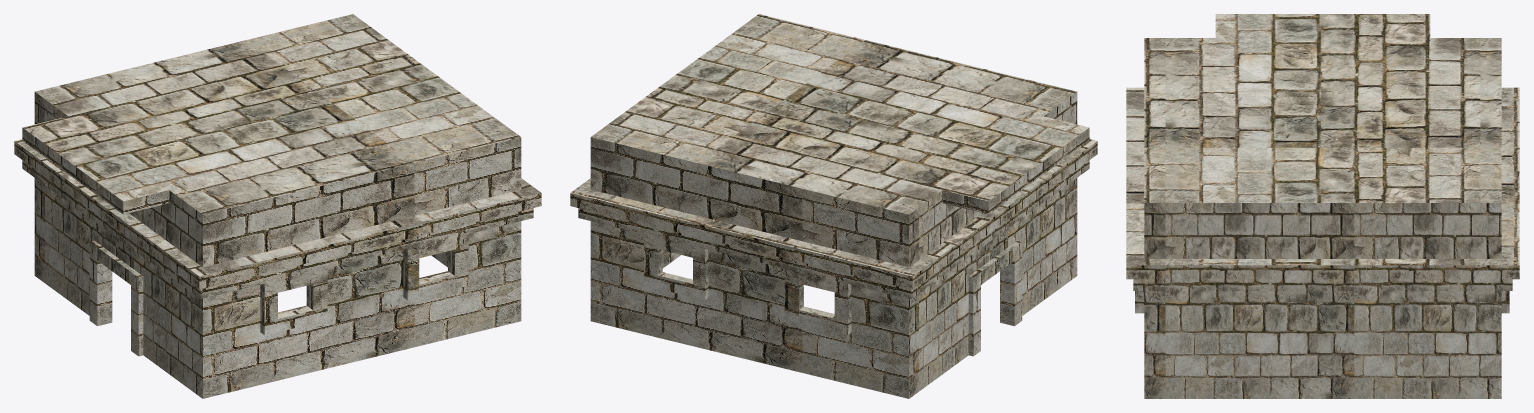
Rendered from FirstLevelRoom.FBX.
3 renders of one model, left to right at view 1: azimuth 30°, elevation 25°; view 2: azimuth 150°, elevation 25°; view 3: azimuth 270°, elevation 25°, orthographic. The views are drawn at different scales.
Visible parts, largest first — view 1: Level 1 Room; view 2: Level 1 Room; view 3: Level 1 Room.
Boxes of the visible parts, left/top/right/bottom form: Level 1 Room: left=14, top=14, right=541, bottom=398; Level 1 Room: left=570, top=14, right=1097, bottom=398; Level 1 Room: left=1126, top=14, right=1519, bottom=398.
Size of the model in its own units: 182 by 85.04 by 155.
Materials: 1 (1 with a texture image).
